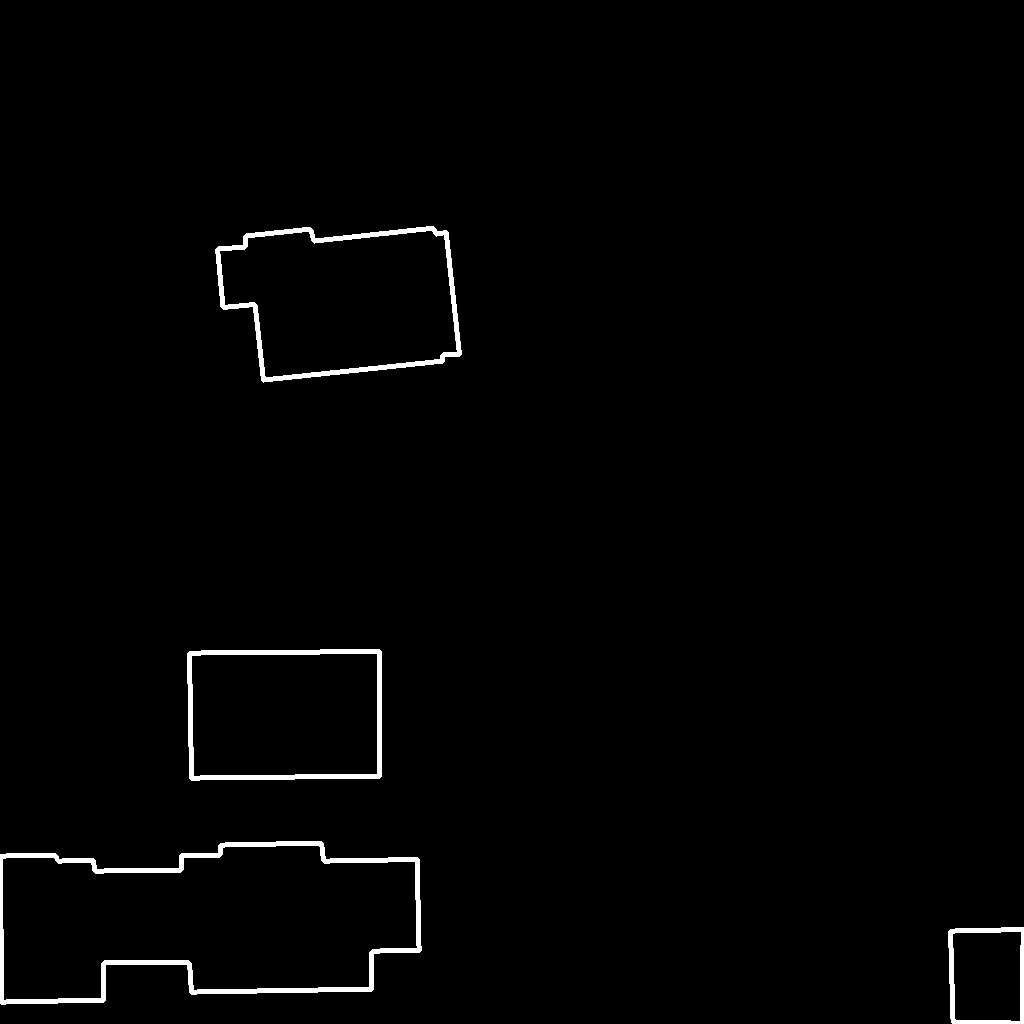building: (0, 843, 420, 1003), (217, 228, 461, 381), (189, 651, 381, 779), (950, 929, 1024, 1024)
